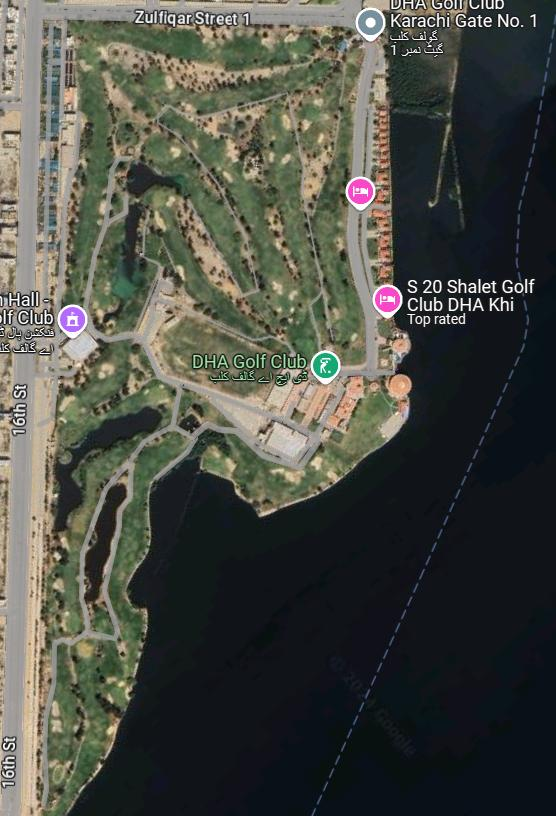Buildings: (63, 26, 400, 801)
